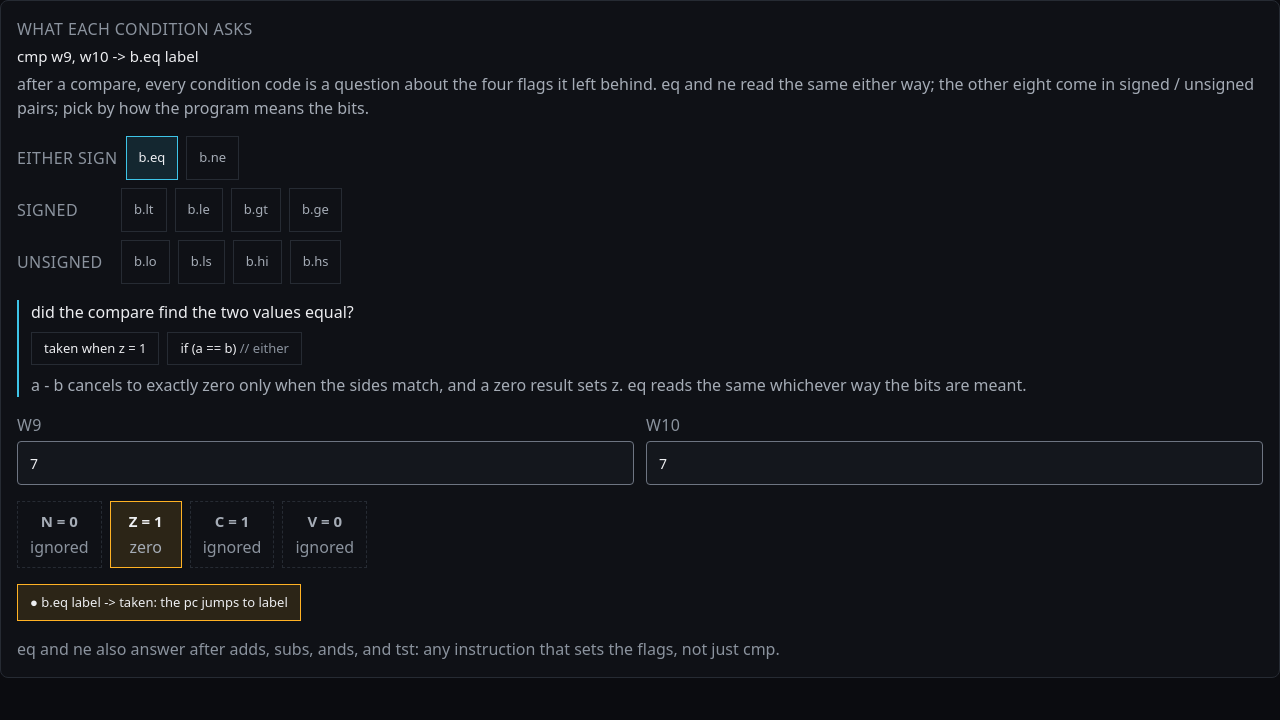
Test case: CondCodeExplorer › picking lt shows the signed story and dims the flags it ignores
The width and height of the screenshot is (1280, 720).
Click the button "b.lt". click: (144, 210)
box: [121, 188, 166, 232]
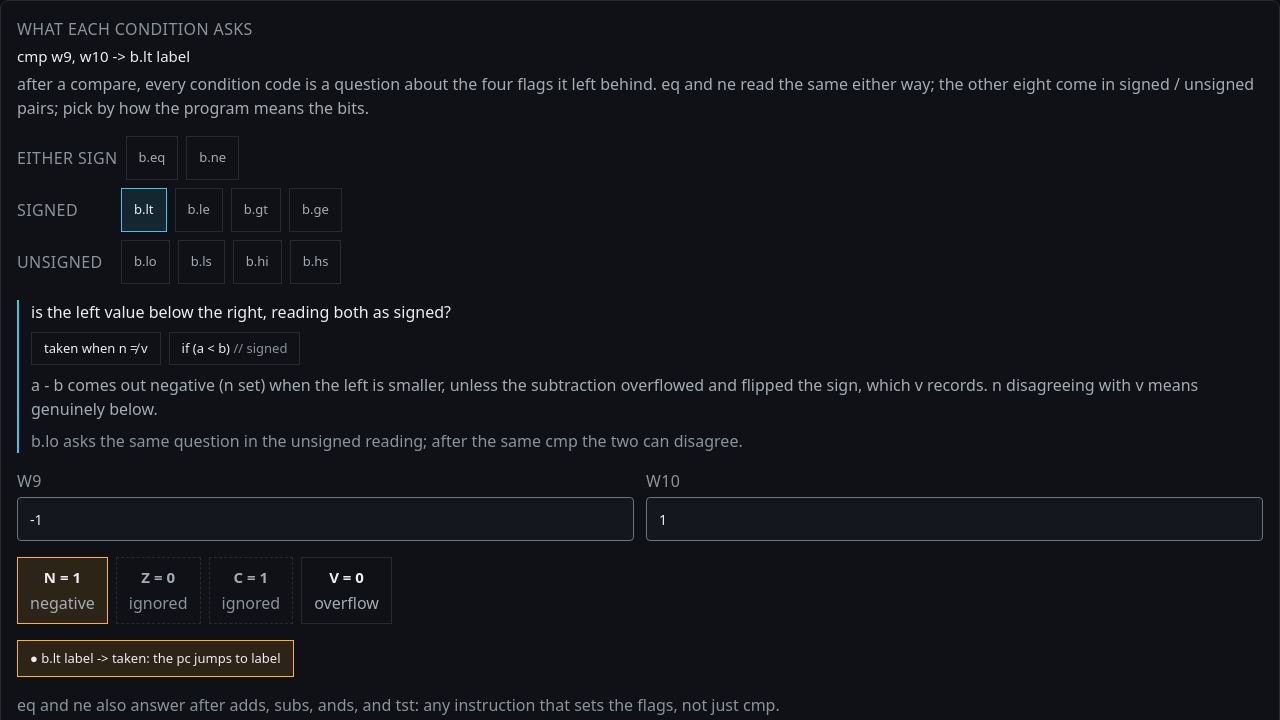
Now the element named "b.lt: taken" is shown, box [17, 640, 294, 677]
Now the text "taken when n ≠ v" is shown, box [31, 332, 160, 365]
Now the list item with aria-label "C carry: 1, ignored by b.lt" is shown, box [208, 557, 293, 624]
